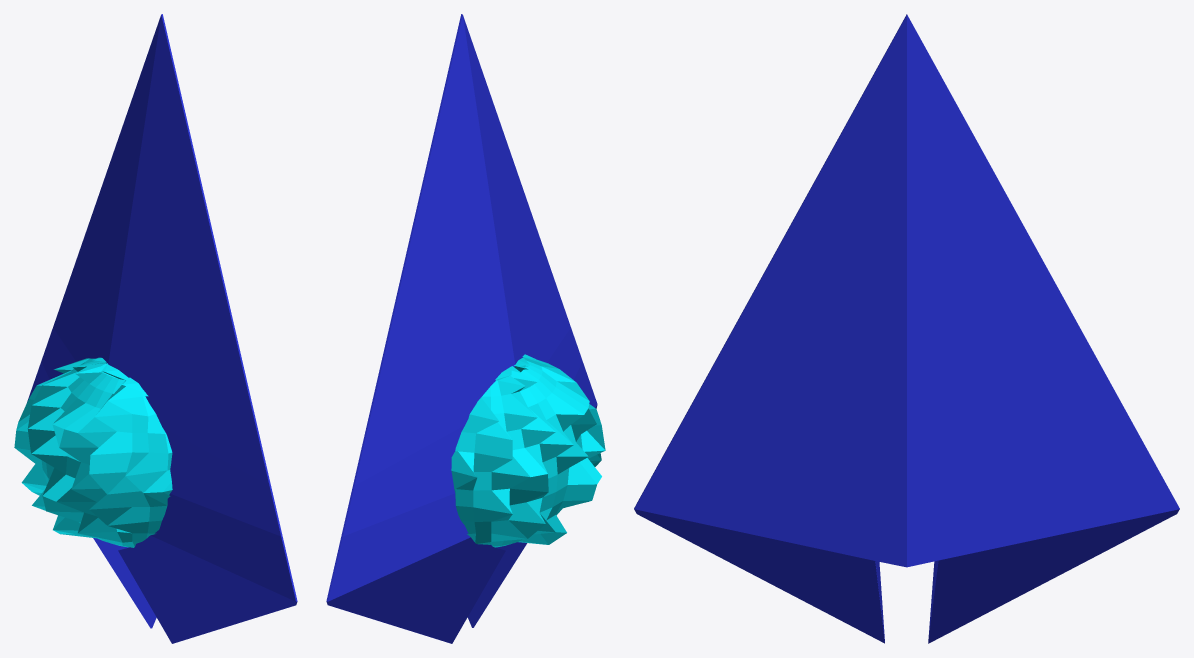
The model's file is Task-Portal.fbx.
3 renders of one model, left to right at view 1: azimuth 30°, elevation 25°; view 2: azimuth 150°, elevation 25°; view 3: azimuth 270°, elevation 25°, orthographic.
Parts seen in each view (by area): view 1: Cube, Sphere; view 2: Cube, Sphere; view 3: Cube.
Boxes of the visible parts, <box> form: Cube: <box>27,14,297,643</box>; Sphere: <box>14,357,172,547</box>; Cube: <box>326,14,597,643</box>; Sphere: <box>451,354,605,547</box>; Cube: <box>634,14,1179,643</box>.
Bounding box in the file's own units: 418 × 1284 × 1009.
